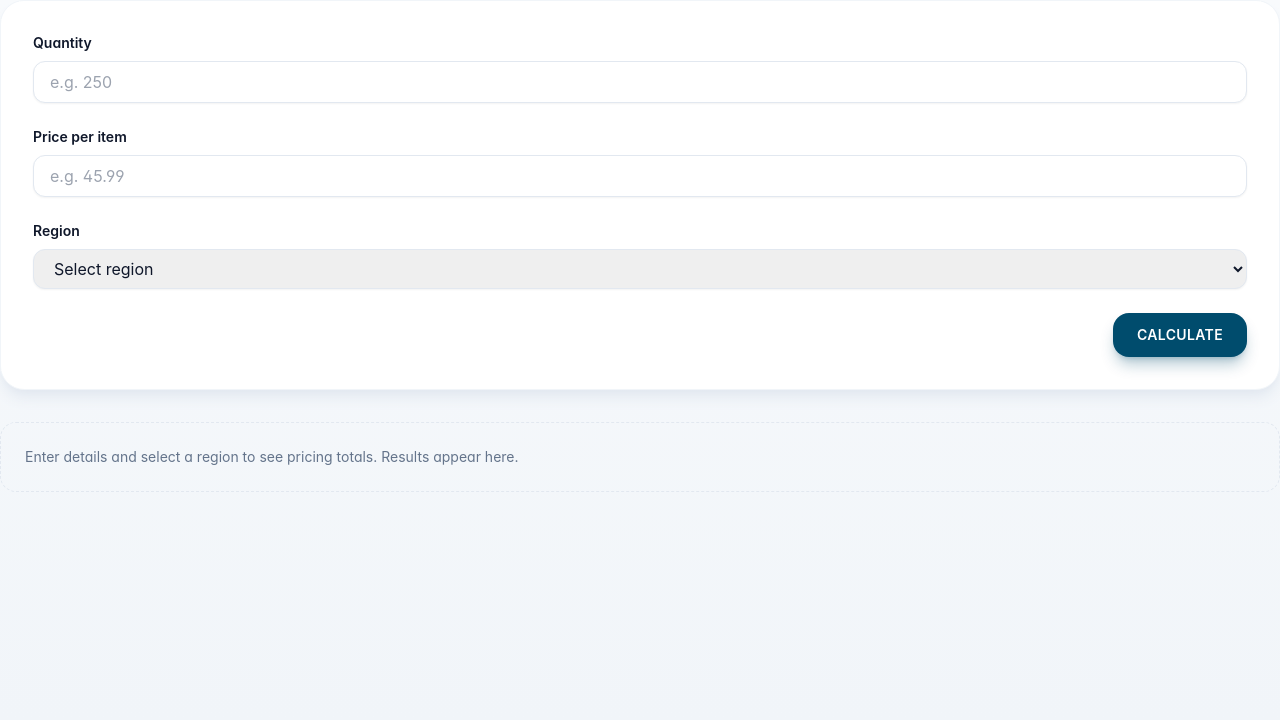
Test case: Calculator › calculates totals when inputs are valid
Type "50" into the number field labelled "Quantity" at (640, 82), box [33,61,1247,103]
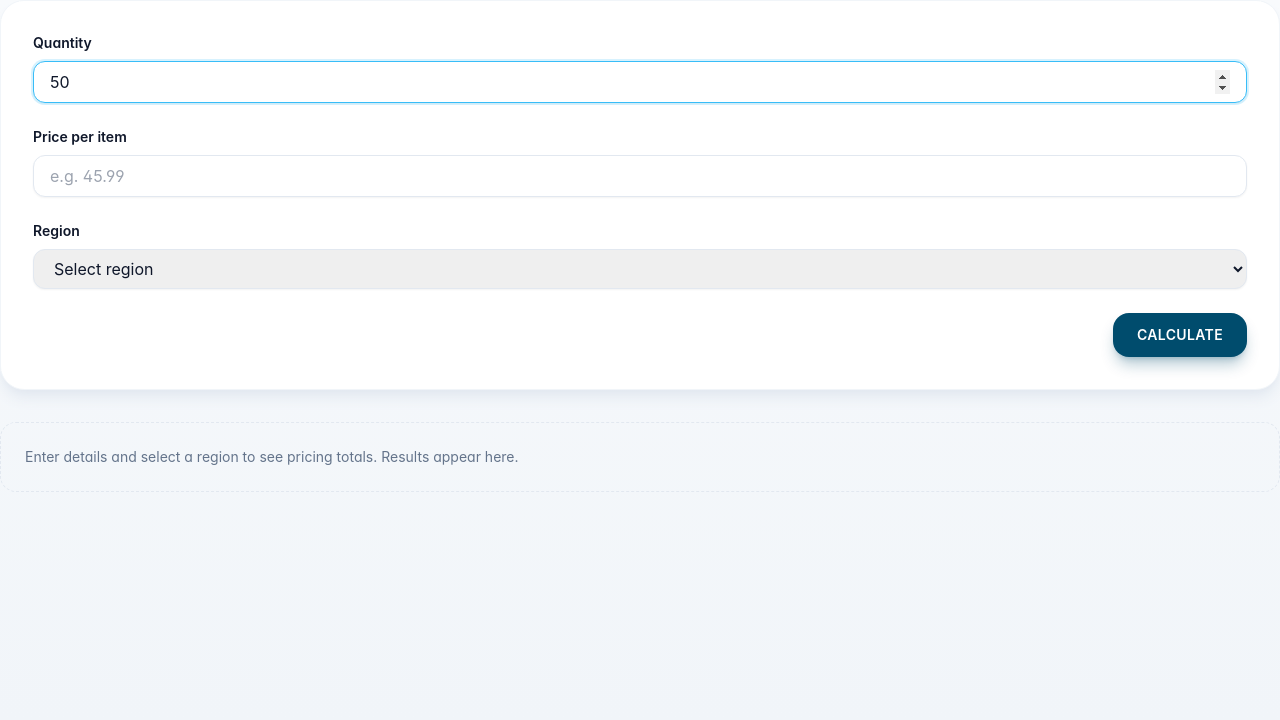
Type "200" into the number field labelled "Price per item" at (640, 176), box [33,155,1247,197]
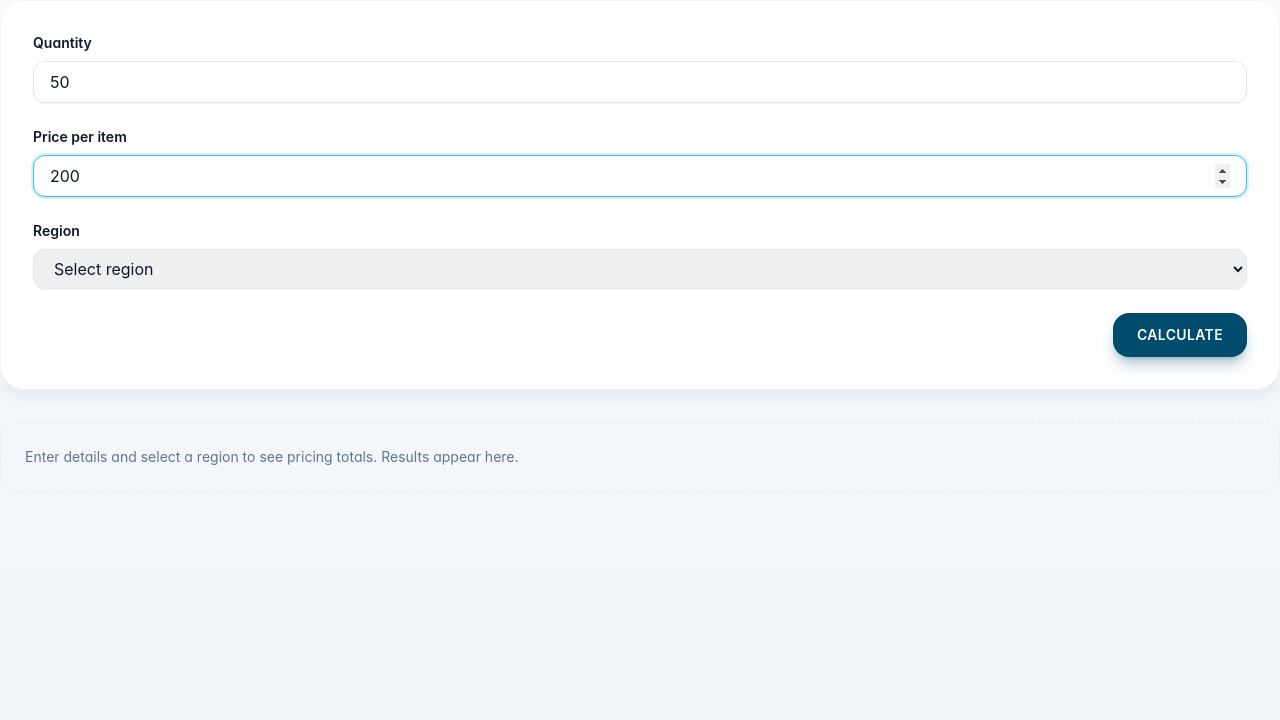
Select "AUK · 6.85%" in the dropdown labelled "Region" at (640, 269), box [33,249,1247,289]
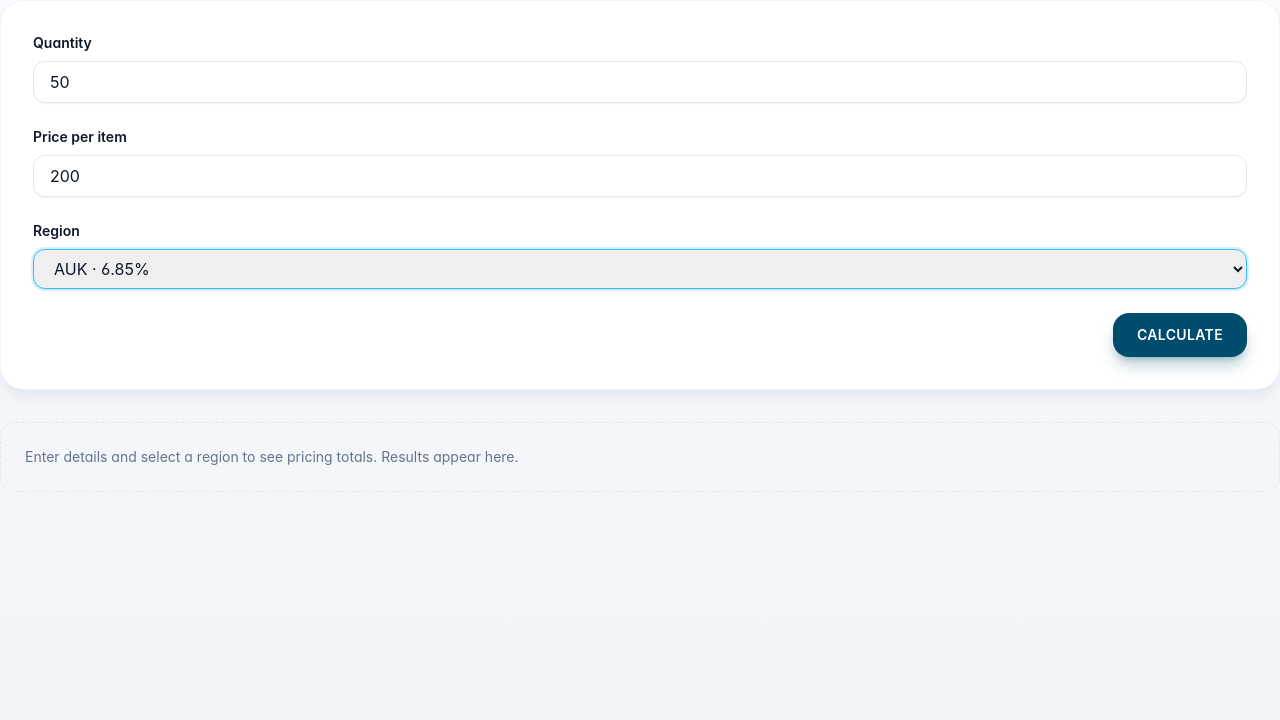
Click the button "Calculate" at (1180, 335), box [1113,313,1247,357]
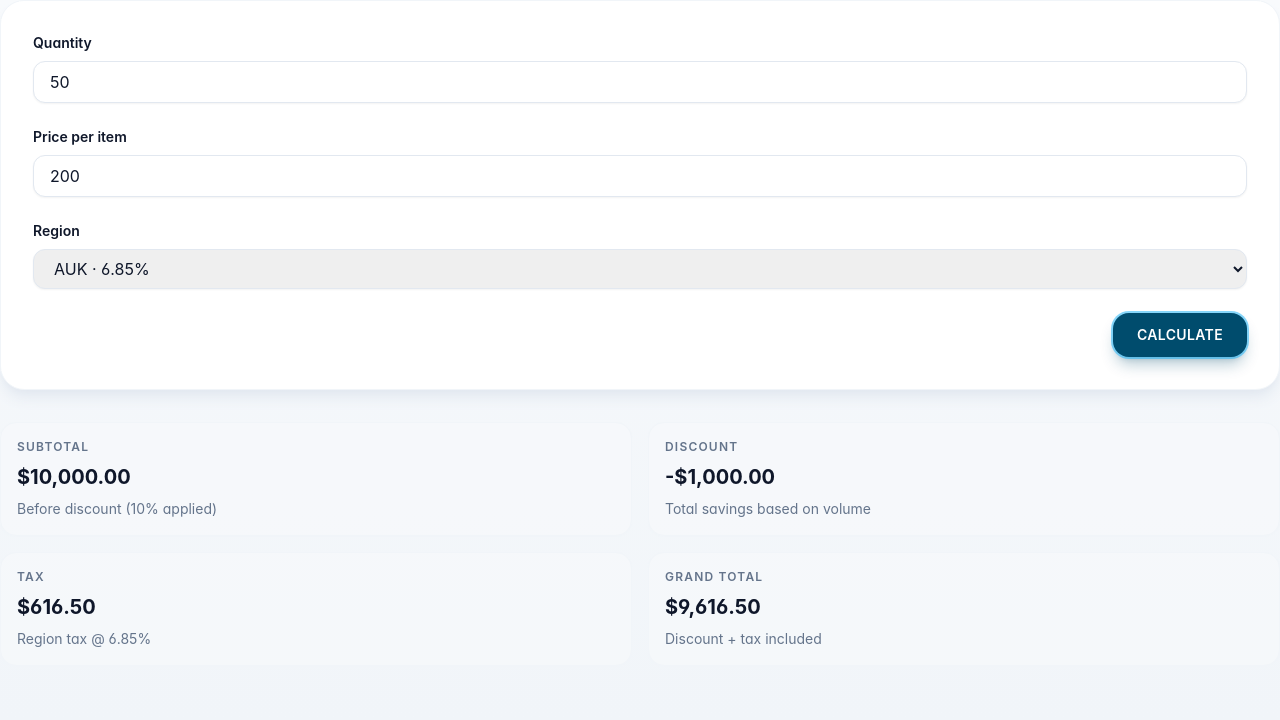
Now the text "Grand total" is shown, box [665,569,763,584]
Now the text "$9,616.50" is shown, box [665,595,761,619]
